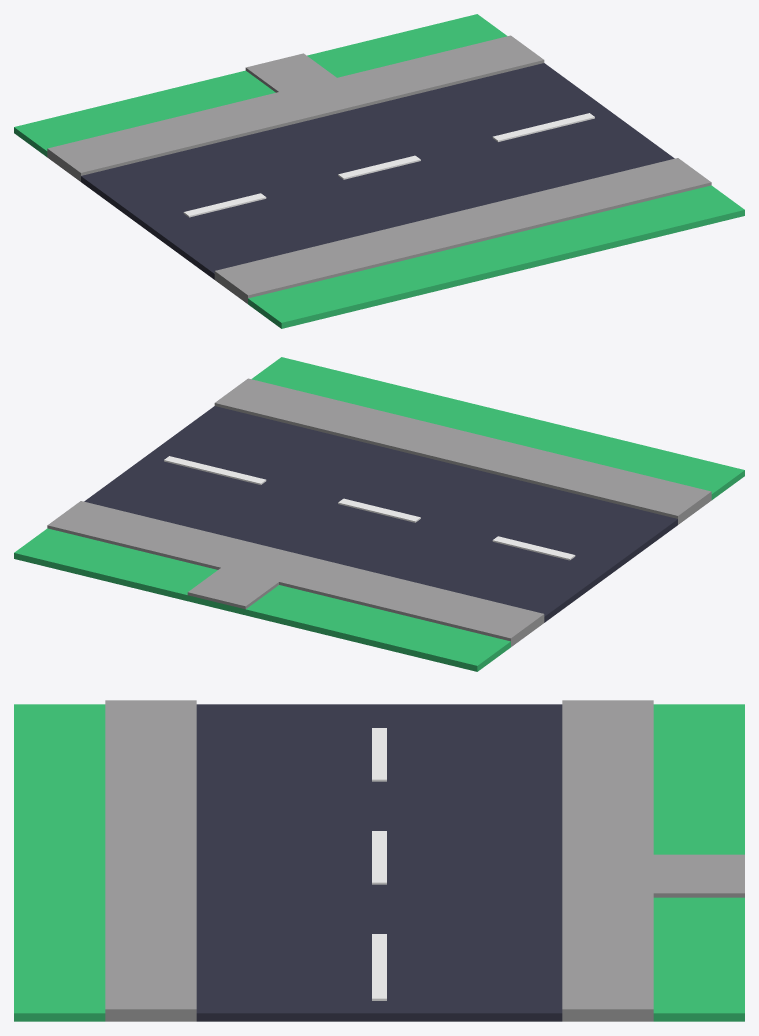
Rendered from assets.gltf.
3 views of the same model, one above another, from view 1: azimuth 30°, elevation 25°; view 2: azimuth 150°, elevation 25°; view 3: azimuth 270°, elevation 25° (orthographic). The views are drawn at different scales.
Parts seen in each view (by area): view 1: Road, Footpath, Grass, Lines; view 2: Road, Footpath, Grass, Lines; view 3: Road, Footpath, Grass, Lines.
Boxes of the visible parts, left/top/right/bottom form: Road: left=81, top=63, right=674, bottom=279; Footpath: left=47, top=35, right=711, bottom=303; Grass: left=14, top=14, right=744, bottom=328; Lines: left=183, top=113, right=594, bottom=217; Road: left=84, top=406, right=677, bottom=622; Footpath: left=47, top=378, right=711, bottom=646; Grass: left=14, top=357, right=744, bottom=671; Lines: left=164, top=456, right=575, bottom=560; Road: left=196, top=704, right=562, bottom=1021; Footpath: left=105, top=700, right=744, bottom=1021; Grass: left=14, top=704, right=744, bottom=1021; Lines: left=372, top=728, right=386, bottom=1000.
Size of the model in its own units: 0.16 by 0.003 by 0.16.
